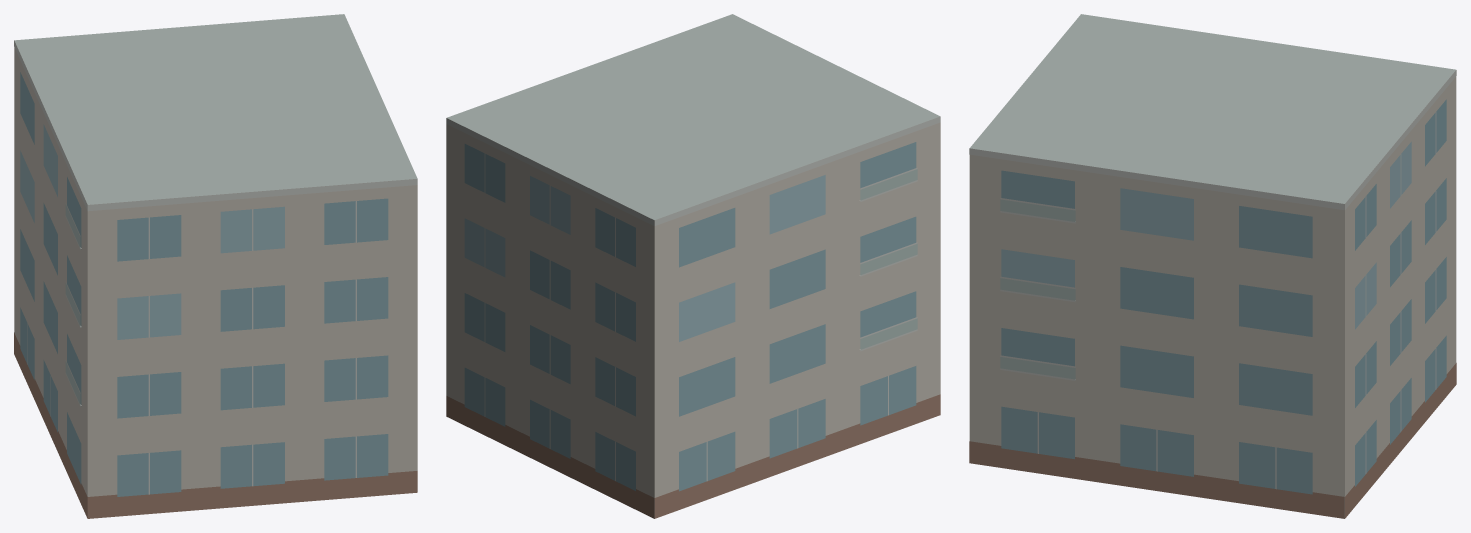
File: residential-8f3314ec-6e0e-481a-b66c-d608cde5050b.glb
The picture shows the model from 3 angles, left to right: view 1: azimuth 30°, elevation 25°; view 2: azimuth 150°, elevation 25°; view 3: azimuth 270°, elevation 25°; orthographic projection. The views are drawn at different scales.
Parts seen in each view (by area): view 1: residential-8f3314ec-6e0e-481a-b66c-d608cde5050b.tmp; view 2: residential-8f3314ec-6e0e-481a-b66c-d608cde5050b.tmp; view 3: residential-8f3314ec-6e0e-481a-b66c-d608cde5050b.tmp.
Part boxes in pixels (box(x1,y1,x2,y2)): residential-8f3314ec-6e0e-481a-b66c-d608cde5050b.tmp: box(14, 14, 417, 518); residential-8f3314ec-6e0e-481a-b66c-d608cde5050b.tmp: box(446, 14, 940, 518); residential-8f3314ec-6e0e-481a-b66c-d608cde5050b.tmp: box(969, 14, 1456, 518).
Bounding box in the file's own units: 15.8 × 12.2 × 17.11.
